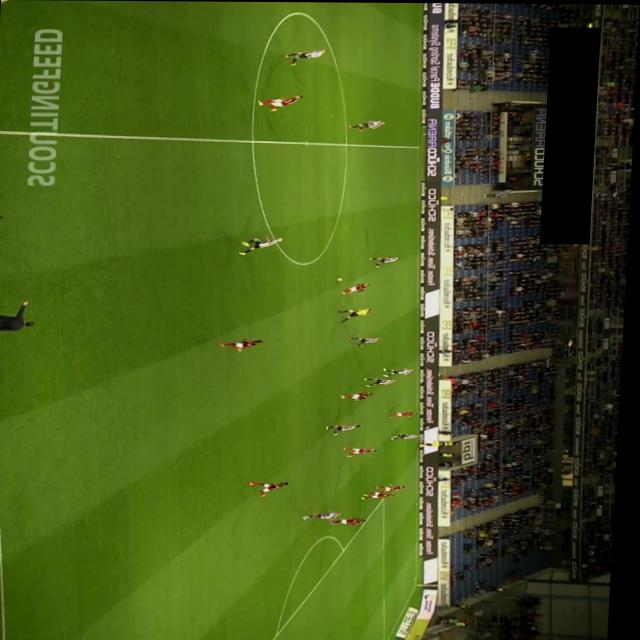player: (240, 236, 285, 255), (257, 94, 304, 111), (283, 48, 328, 65), (252, 481, 294, 497), (221, 338, 266, 352), (306, 509, 349, 521), (328, 423, 365, 435), (349, 120, 387, 131), (348, 336, 385, 347), (370, 256, 402, 268), (343, 282, 373, 294), (367, 377, 402, 387), (346, 447, 381, 457), (343, 391, 377, 400), (385, 367, 418, 376), (366, 491, 398, 500), (334, 518, 372, 525), (380, 484, 410, 491), (392, 411, 420, 418), (395, 433, 423, 440)
referee: (340, 307, 375, 323), (421, 440, 447, 447)
